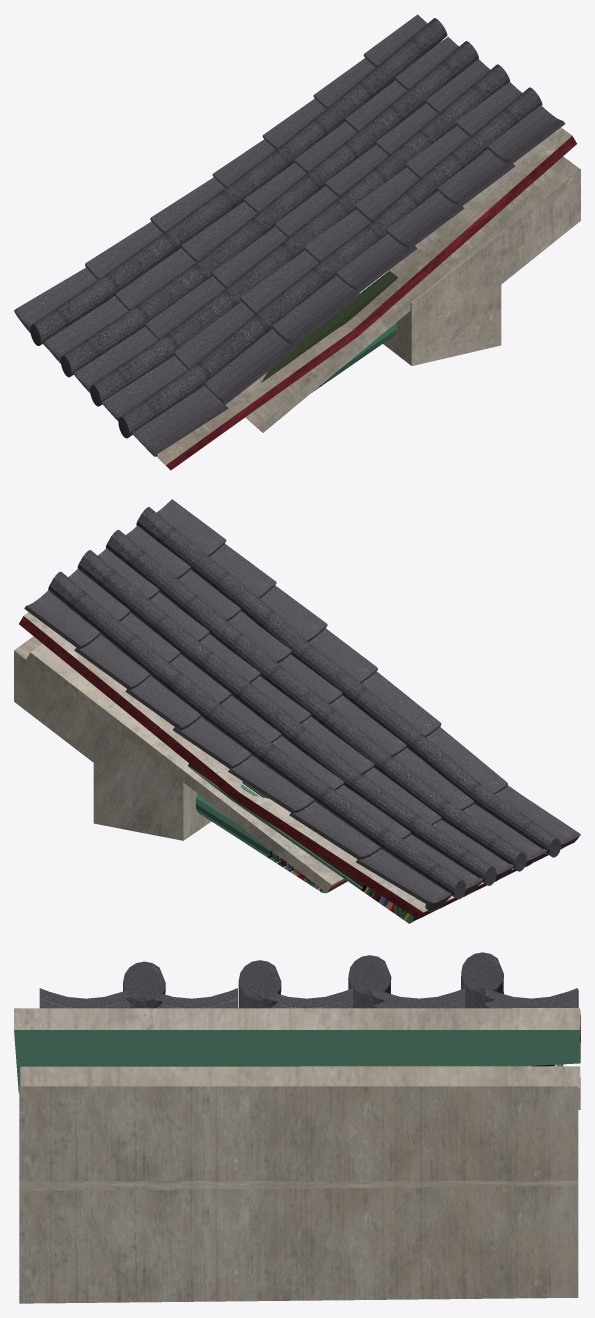
The model's file is SM_Roof_6.fbx.
The picture shows the model from 3 angles, top to bottom: view 1: azimuth 30°, elevation 25°; view 2: azimuth 150°, elevation 25°; view 3: azimuth 270°, elevation 25°; orthographic projection. The views are drawn at different scales.
Parts seen in each view (by area): view 1: SM_Roof_6; view 2: SM_Roof_6; view 3: SM_Roof_6.
Boxes of the visible parts, bbox=[...] form: SM_Roof_6: bbox=[14, 14, 580, 470]; SM_Roof_6: bbox=[14, 499, 580, 923]; SM_Roof_6: bbox=[14, 952, 580, 1303].
Size of the model in its own units: 432 by 271 by 263.
Materials: 4 (4 with a texture image).
